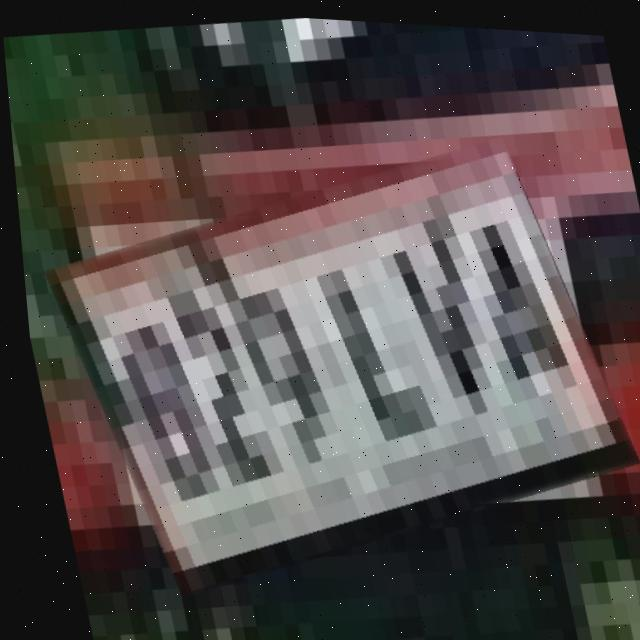LicensePlate: (34, 125, 638, 600)
